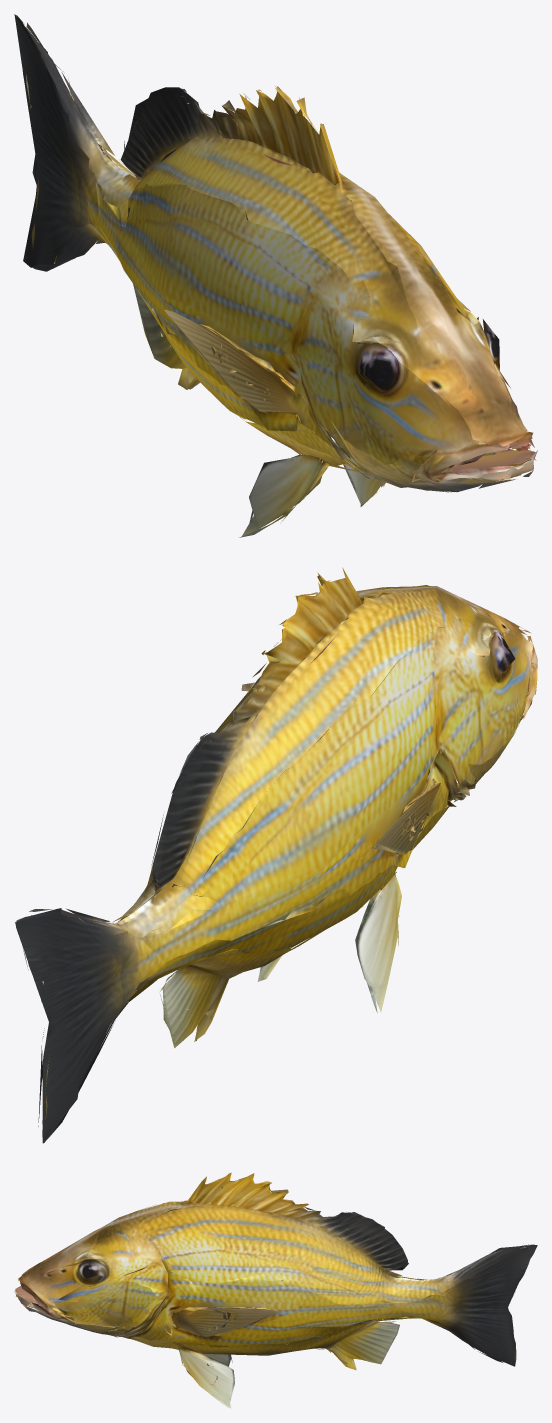
The model's file is grunt.glb.
3 views of the same model, one above another, from view 1: azimuth 30°, elevation 25°; view 2: azimuth 150°, elevation 25°; view 3: azimuth 270°, elevation 25° (orthographic). The views are drawn at different scales.
Visible parts, largest first — view 1: grunt.001; view 2: grunt.001; view 3: grunt.001.
Part boxes in pixels (bbox=[...]): grunt.001: bbox=[14, 14, 537, 537]; grunt.001: bbox=[15, 567, 537, 1143]; grunt.001: bbox=[14, 1172, 537, 1408].
Size of the model in its own units: 0.2296 by 0.4678 by 0.9991.
1 material, 1 textured.
